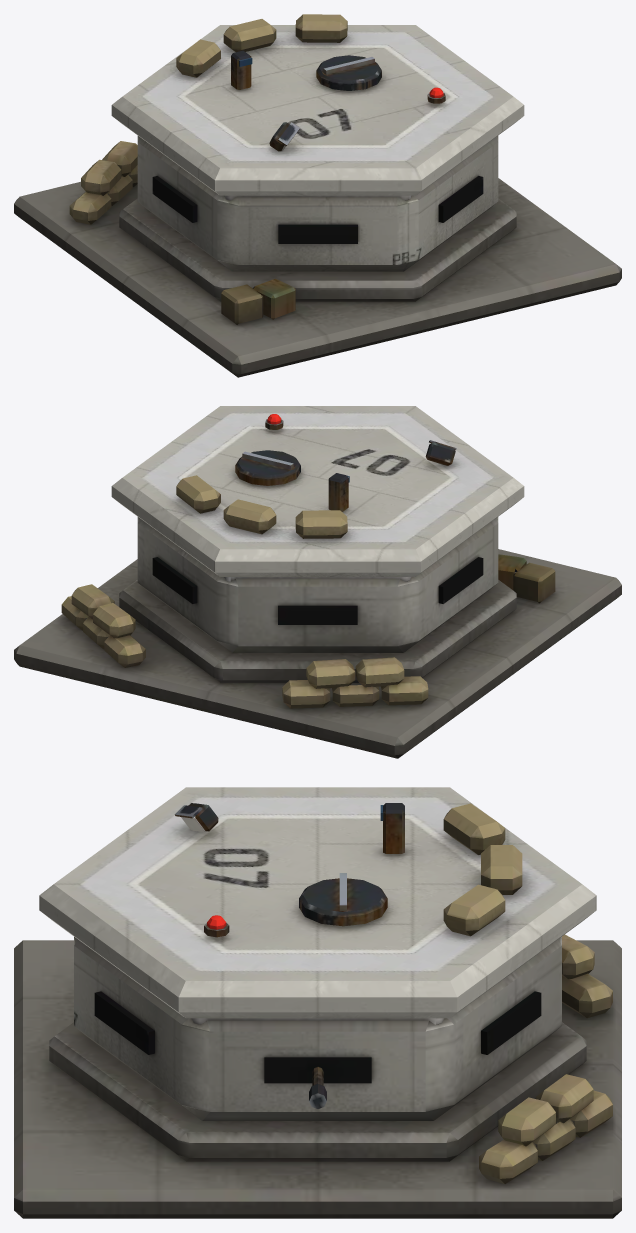
File: pbox.allies.glb
3 renders of one model, top to bottom at view 1: azimuth 30°, elevation 25°; view 2: azimuth 150°, elevation 25°; view 3: azimuth 270°, elevation 25°, orthographic. The views are drawn at different scales.
Visible parts, largest first — view 1: root_mesh; view 2: root_mesh; view 3: root_mesh.
Boxes of the visible parts, <box> form: root_mesh: <box>14,14,621,377</box>; root_mesh: <box>14,406,621,758</box>; root_mesh: <box>14,787,621,1218</box>.
Size of the model in its own units: 0.96 by 0.445 by 0.96.
1 material, 1 textured.
